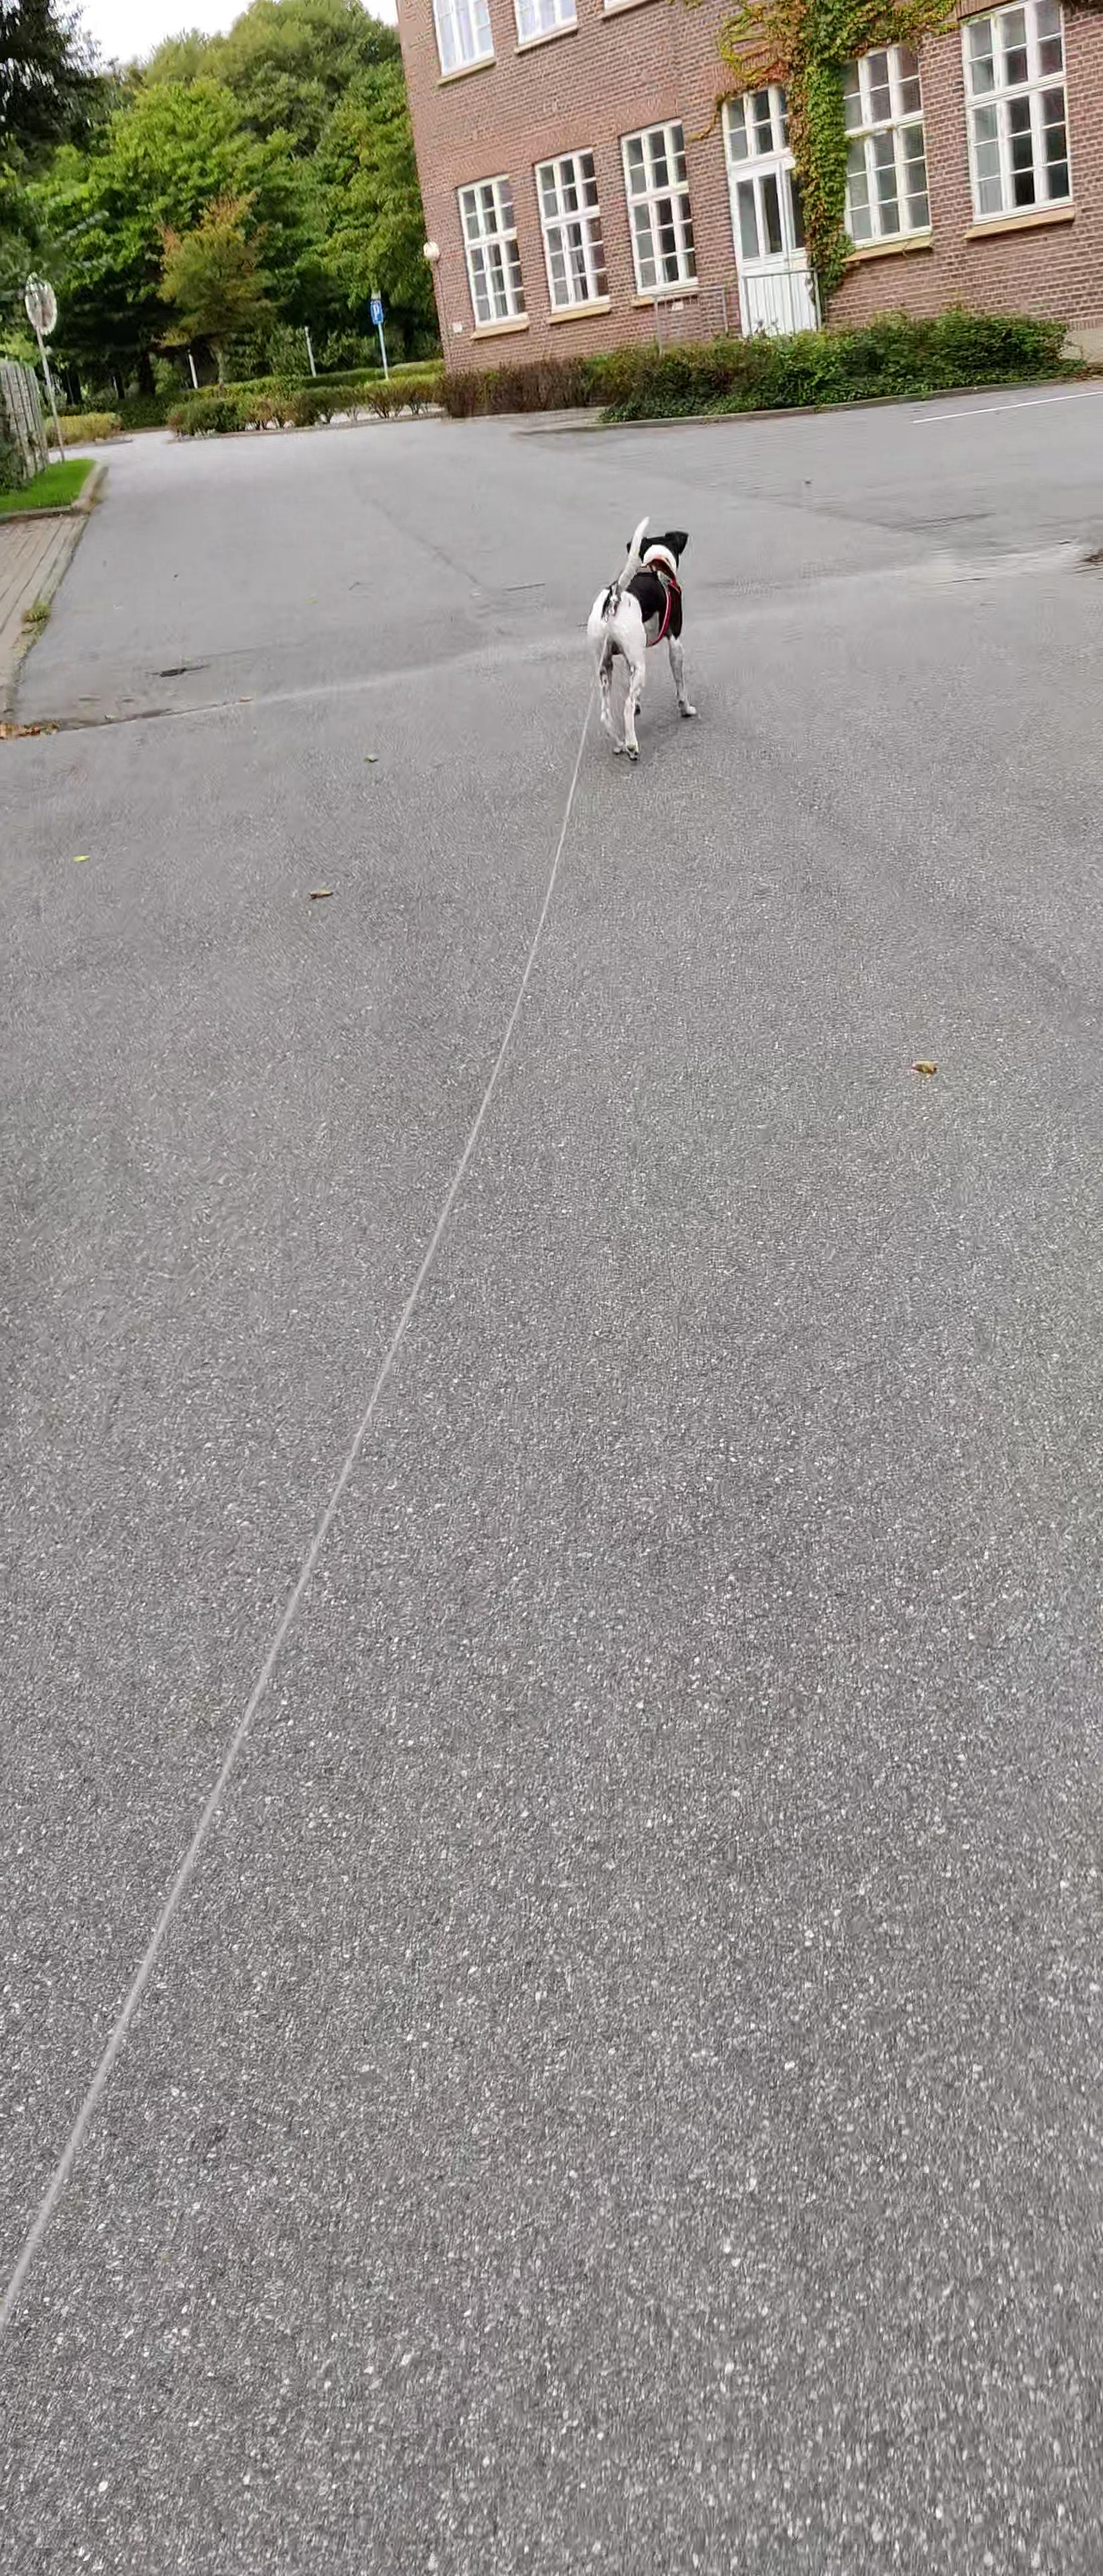Dog: (580, 504, 715, 779)
